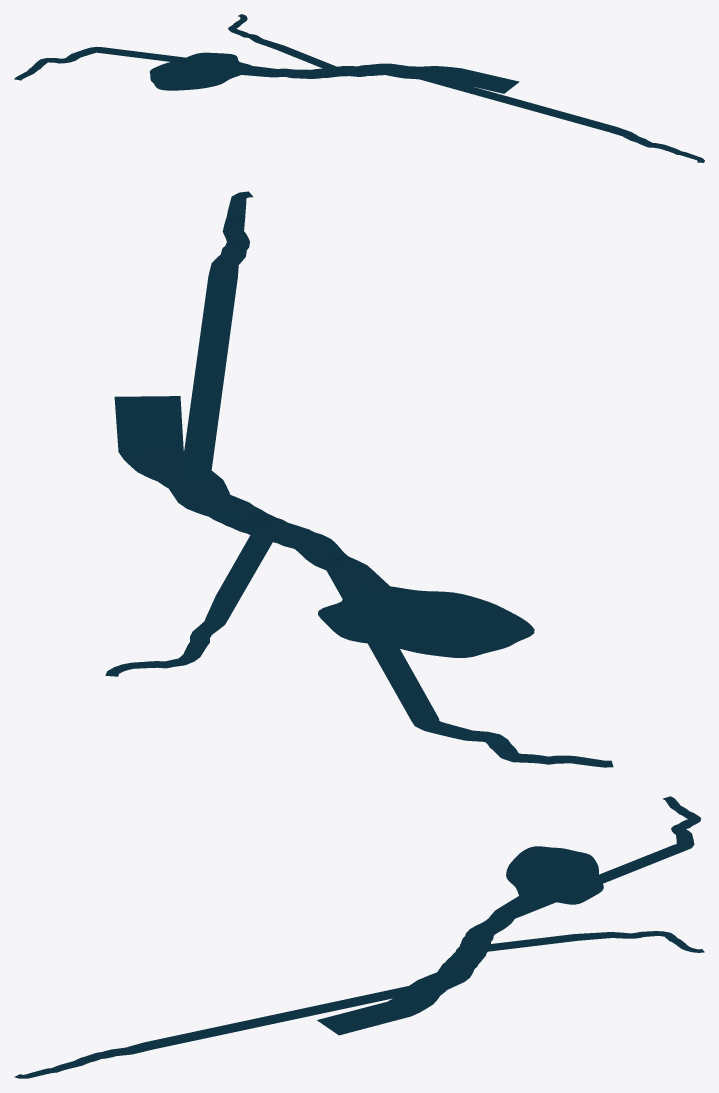
Rendered from internal_water.obj.
3 views of the same model, one above another, from view 1: azimuth 30°, elevation 25°; view 2: azimuth 150°, elevation 25°; view 3: azimuth 270°, elevation 25° (orthographic). The views are drawn at different scales.
Visible parts, largest first — view 1: grant_lake_and_mercy_river; view 2: grant_lake_and_mercy_river; view 3: grant_lake_and_mercy_river.
Part boxes in pixels (<box>): grant_lake_and_mercy_river: <box>14,14,704,162</box>; grant_lake_and_mercy_river: <box>105,191,613,767</box>; grant_lake_and_mercy_river: <box>14,796,704,1078</box>.
Bounding box in the file's own units: 425 × 9.64 × 447.
